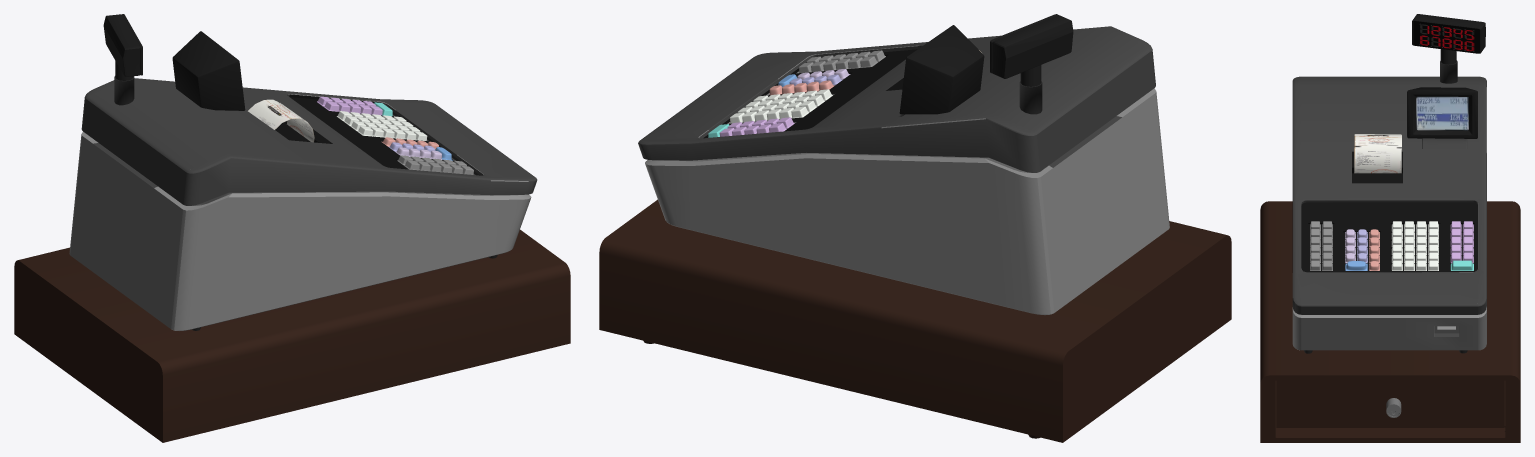
Rendered from Cash Register.fbx.
The picture shows the model from 3 angles, left to right: view 1: azimuth 30°, elevation 25°; view 2: azimuth 150°, elevation 25°; view 3: azimuth 270°, elevation 25°; orthographic projection. The views are drawn at different scales.
Visible parts, largest first — view 1: 立方体.001, 立方体, Screen, 立方体.002, Square Button, 柱体.011, Square Button.001, Square Button.002; view 2: 立方体.001, 立方体, Screen, 立方体.002, Square Button, Square Button.001, Square Button.002, 柱体; view 3: 立方体.001, 立方体, Screen, 立方体.002, Square Button, 柱体.011, Square Button.001, Square Button.002, 平面, Round Button, 柱体, Round Button.001 (+2 smaller).
Part boxes in pixels (x1,y1,x2,y2): 立方体.001: (69,78,537,330); 立方体: (14,229,570,442); Screen: (172,31,245,110); 立方体.002: (103,14,142,76); Square Button: (336,111,427,140); 柱体.011: (248,99,314,142); Square Button.001: (397,155,473,174); Square Button.002: (317,96,382,115); 立方体.001: (638,26,1169,315); 立方体: (599,199,1231,442); Screen: (899,25,984,114); 立方体.002: (990,14,1073,78); Square Button: (730,89,832,123); Square Button.001: (798,50,885,73); Square Button.002: (719,117,794,136); 柱体: (1019,81,1042,114); 立方体.001: (1292,76,1486,350); 立方体: (1260,201,1520,442); Screen: (1407,87,1477,138); 立方体.002: (1412,14,1485,53); Square Button: (1391,221,1438,270); 柱体.011: (1354,134,1401,173); Square Button.001: (1310,221,1332,270); Square Button.002: (1450,221,1473,263); 平面: (1422,138,1467,148); Round Button: (1369,229,1379,270); 柱体: (1440,60,1457,83); Round Button.001: (1357,229,1367,263).
Size of the model in its own units: 222 by 168 by 138.
Materials: 23 (3 with a texture image).
